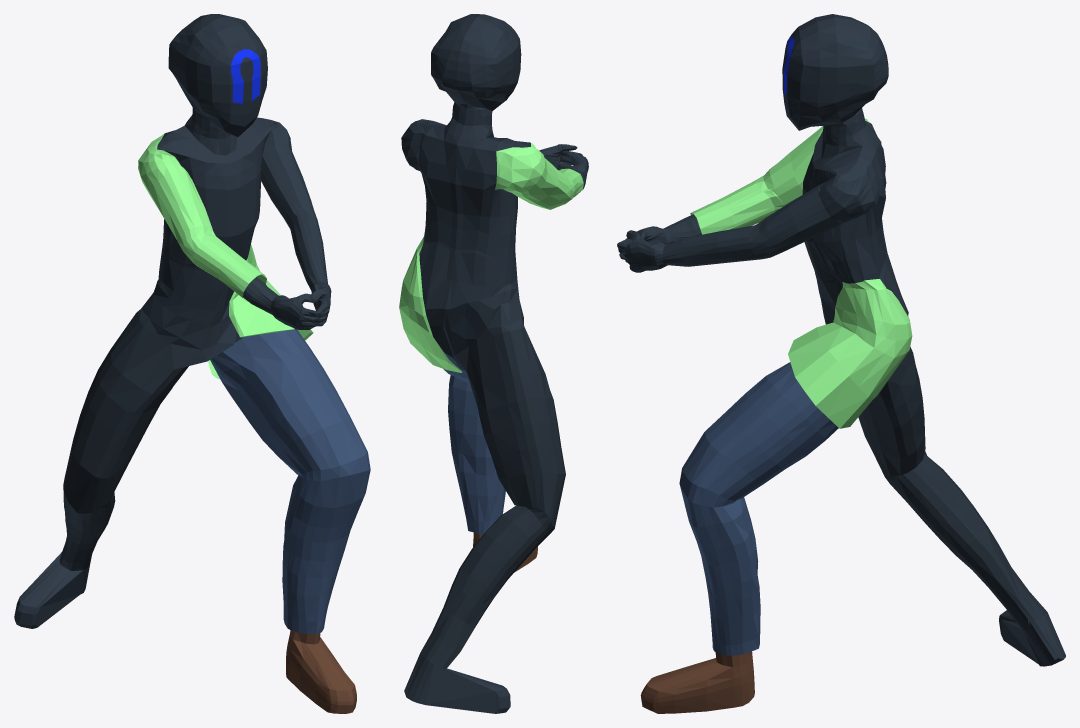
File: Mar_Attack_000031.obj
The picture shows the model from 3 angles, left to right: view 1: azimuth 30°, elevation 25°; view 2: azimuth 150°, elevation 25°; view 3: azimuth 270°, elevation 25°; orthographic projection. The views are drawn at different scales.
Parts seen in each view (by area): view 1: Cube.000_Cube.001; view 2: Cube.000_Cube.001; view 3: Cube.000_Cube.001.
Boxes of the visible parts, x1=… form: Cube.000_Cube.001: x1=14, y1=14, x2=370, y2=713; Cube.000_Cube.001: x1=399, y1=14, x2=588, y2=713; Cube.000_Cube.001: x1=617, y1=14, x2=1065, y2=713.
Size of the model in its own units: 1.18 by 3.56 by 2.15.
